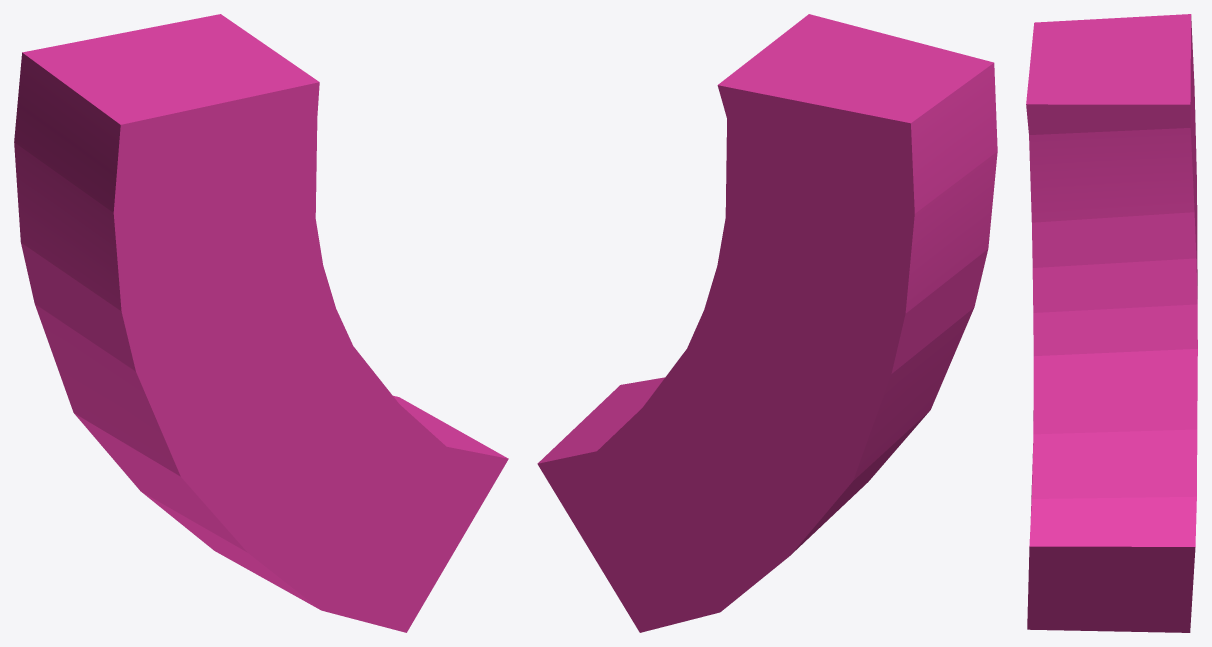
Rendered from Rotation Mesh.fbx.
3 renders of one model, left to right at view 1: azimuth 30°, elevation 25°; view 2: azimuth 150°, elevation 25°; view 3: azimuth 270°, elevation 25°, orthographic. The views are drawn at different scales.
Visible parts, largest first — view 1: Cube.002; view 2: Cube.002; view 3: Cube.002.
Part boxes in pixels (bbox=[...]): Cube.002: bbox=[14, 14, 508, 632]; Cube.002: bbox=[537, 14, 997, 632]; Cube.002: bbox=[1026, 14, 1197, 632].
Bounding box in the file's own units: 269 × 381 × 118.
